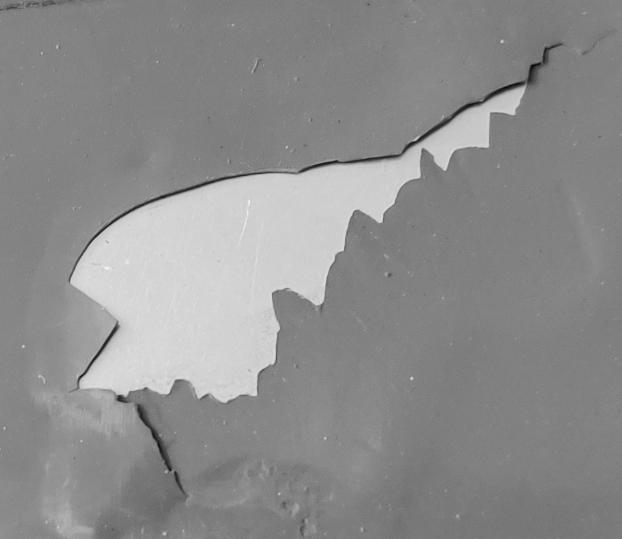paint-off: (1, 0, 622, 539)
